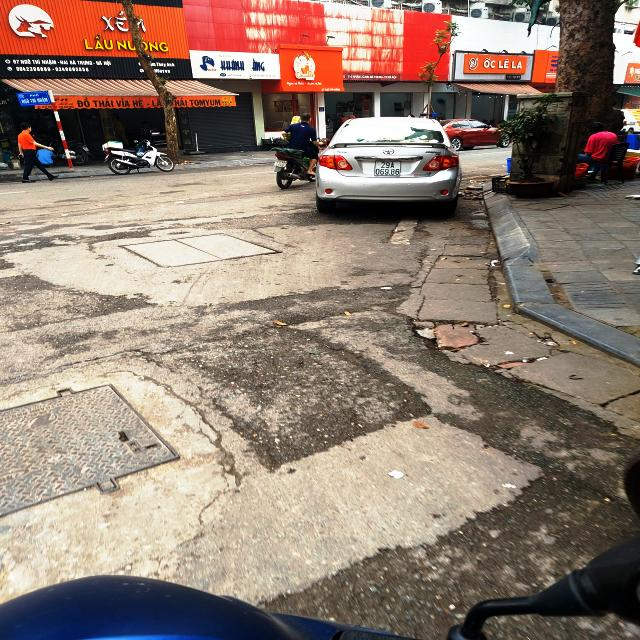license_plate: (375, 161, 402, 177)
